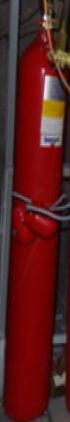cylinder: (1, 1, 70, 422)
